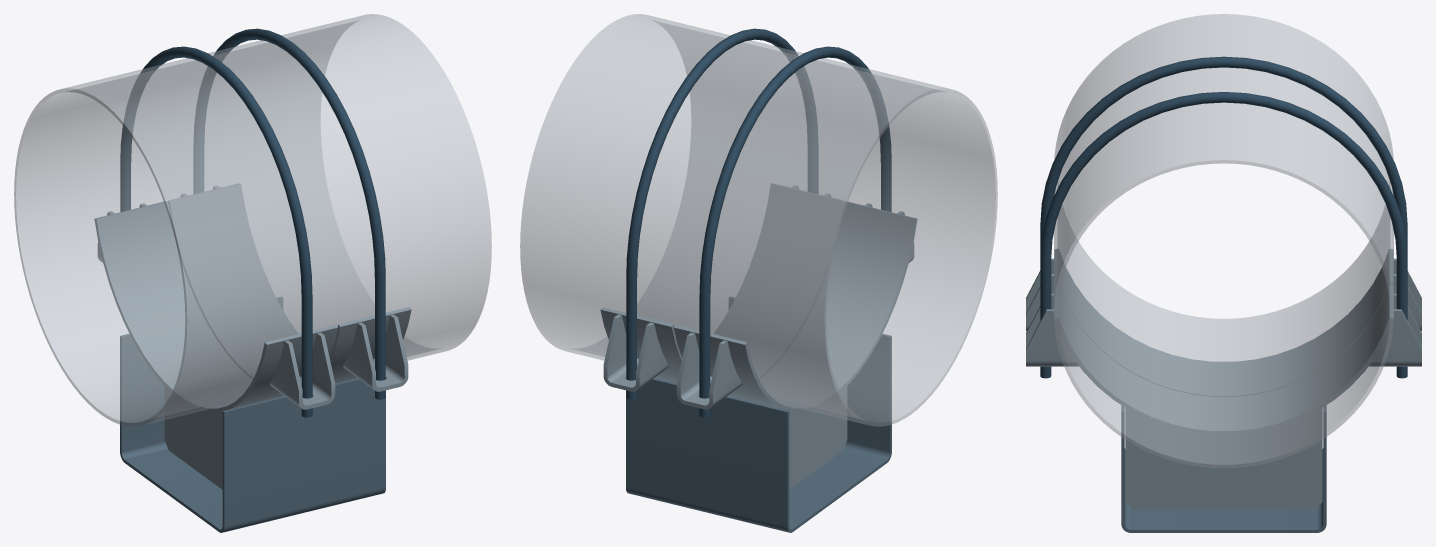
Rendered from TS-626.00.000-062-opora-dn630-H200-L340.glb.
The picture shows the model from 3 angles, left to right: view 1: azimuth 30°, elevation 25°; view 2: azimuth 150°, elevation 25°; view 3: azimuth 270°, elevation 25°; orthographic projection.
Parts seen in each view (by area): view 1: truba, skoba_0, podushka_4, podushka_5, homut_0, homut_1, rebro4_1, ushko_9, ushko_7; view 2: truba, skoba_0, podushka_4, podushka_5, homut_0, homut_1, rebro4_1, ushko_8, ushko_6; view 3: truba, rebro4_2, podushka_5, podushka_4, homut_1, homut_0, skoba_0, ushko_8, ushko_9, ushko_6, ushko_7.
Part boxes in pixels (x1,y1,x2,y2): truba: (14,14,491,426); skoba_0: (120,297,385,532); podushka_4: (94,201,338,412); podushka_5: (168,183,411,383); homut_0: (120,46,312,417); homut_1: (193,28,385,399); rebro4_1: (164,387,222,489); ushko_9: (343,314,408,391); ushko_7: (270,332,335,409); truba: (520,14,997,426); skoba_0: (626,297,891,532); podushka_4: (673,201,917,412); podushka_5: (600,183,843,383); homut_0: (699,46,891,417); homut_1: (626,28,818,399); rebro4_1: (789,387,847,489); ushko_8: (603,314,668,391); ushko_6: (676,332,741,409); truba: (1054,14,1393,468); rebro4_2: (1125,408,1322,509); podushka_5: (1054,284,1393,434); podushka_4: (1054,249,1393,396); homut_1: (1040,92,1407,378); homut_0: (1040,56,1407,257); skoba_0: (1121,405,1326,532); ushko_8: (1368,293,1421,366); ushko_9: (1026,293,1079,366); ushko_6: (1393,258,1421,331); ushko_7: (1026,258,1054,331).
Size of the model in its own units: 640 by 857 by 733.
